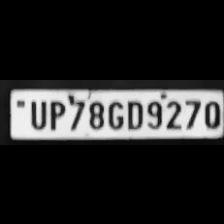0: (200, 97, 222, 128)
2: (164, 98, 182, 130)
7: (64, 96, 84, 130), (182, 97, 200, 129)
8: (84, 96, 106, 130)
9: (145, 97, 163, 129)
D: (123, 96, 143, 130)
G: (104, 98, 124, 130)
P: (46, 96, 66, 130)
U: (26, 97, 48, 129)
